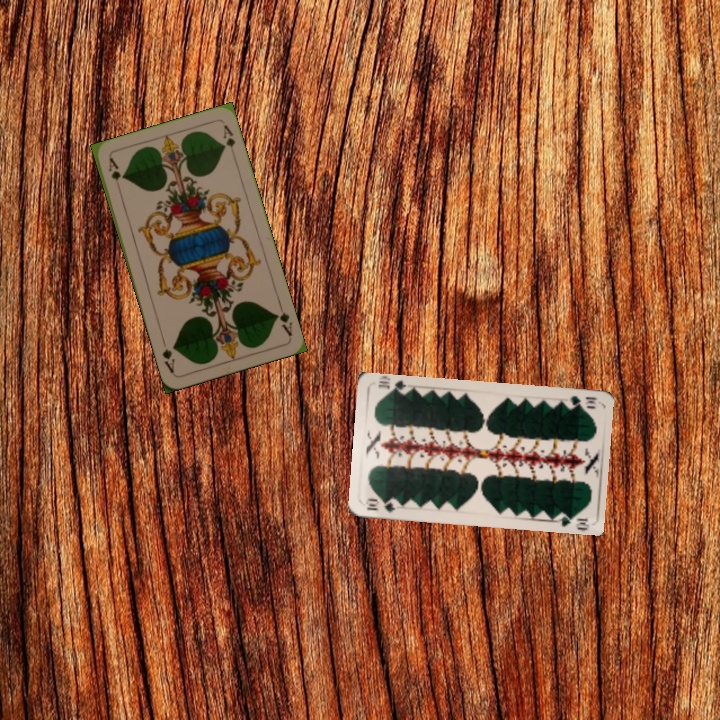G10: (363, 495, 398, 516), (566, 392, 599, 411)
GA: (271, 300, 295, 339), (104, 154, 124, 194)
